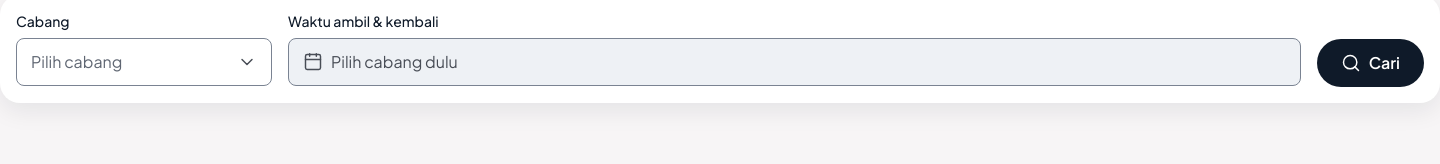
SearchForm › submits the chosen branch
This screenshot has width=1440, height=164.
Later steps or results of the test are not shown.
Click the dropdown labelled "cabang" at (144, 62), box top-left (16, 38), bottom-right (272, 86)
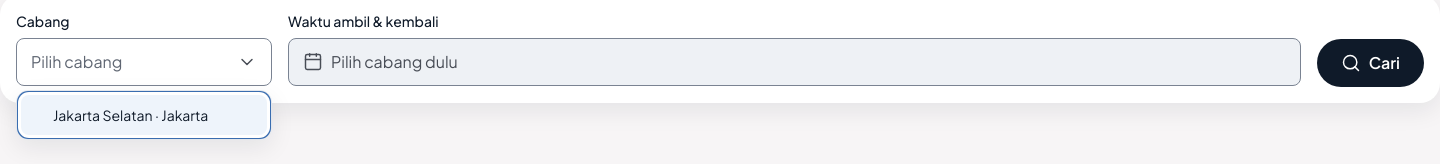
Click the option "Jakarta Selatan · Jakarta" at (144, 115), box top-left (21, 95), bottom-right (267, 135)
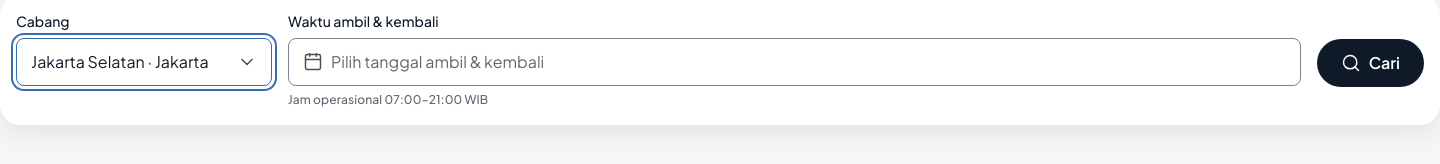
Now the button named "Waktu ambil & kembali" is enabled, box top-left (288, 38), bottom-right (1301, 86)
